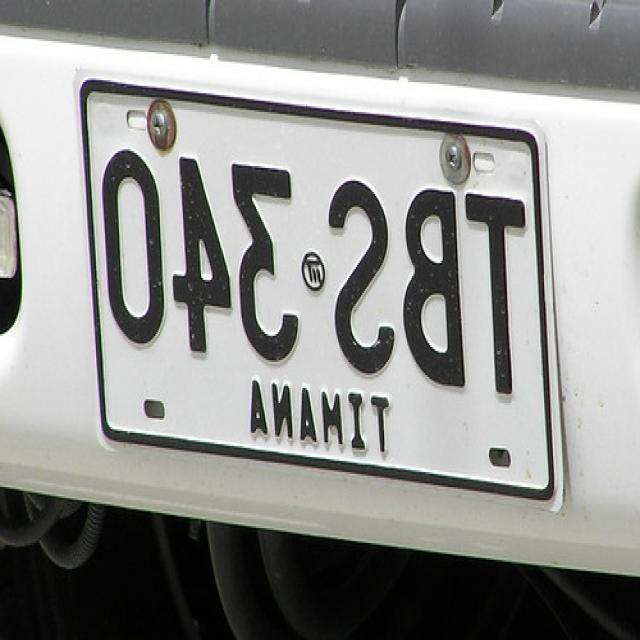placas: (95, 128, 535, 407)
